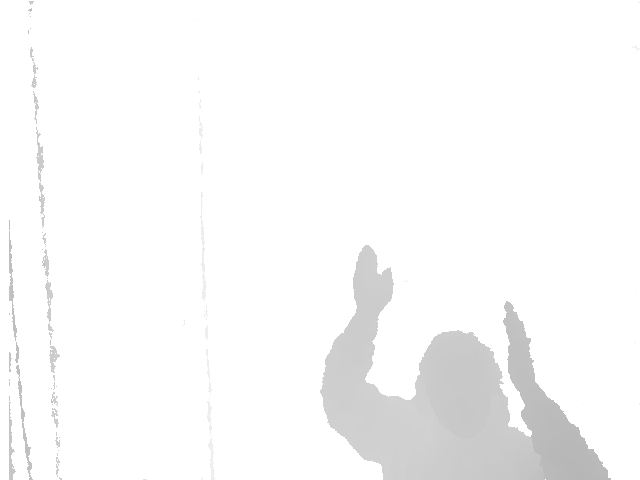hand: (499, 297, 538, 399), (350, 242, 396, 313)
head: (408, 332, 510, 429)
person: (319, 242, 609, 480)
